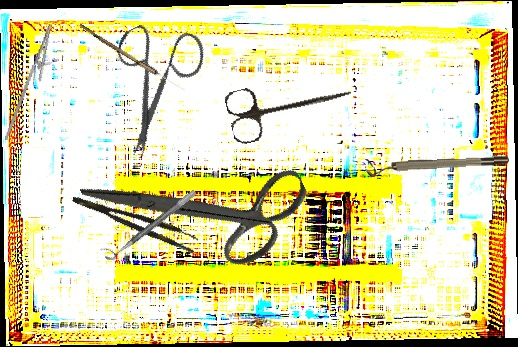Fixation Ring: (99, 181, 198, 264), (364, 153, 510, 178)
Iris Scissors: (79, 99, 324, 316), (82, 4, 236, 161), (223, 63, 357, 147)
Needle Holder: (3, 20, 62, 147)
Surgical Spoon: (77, 23, 187, 93)
Tissue Forceps: (71, 185, 200, 255)
